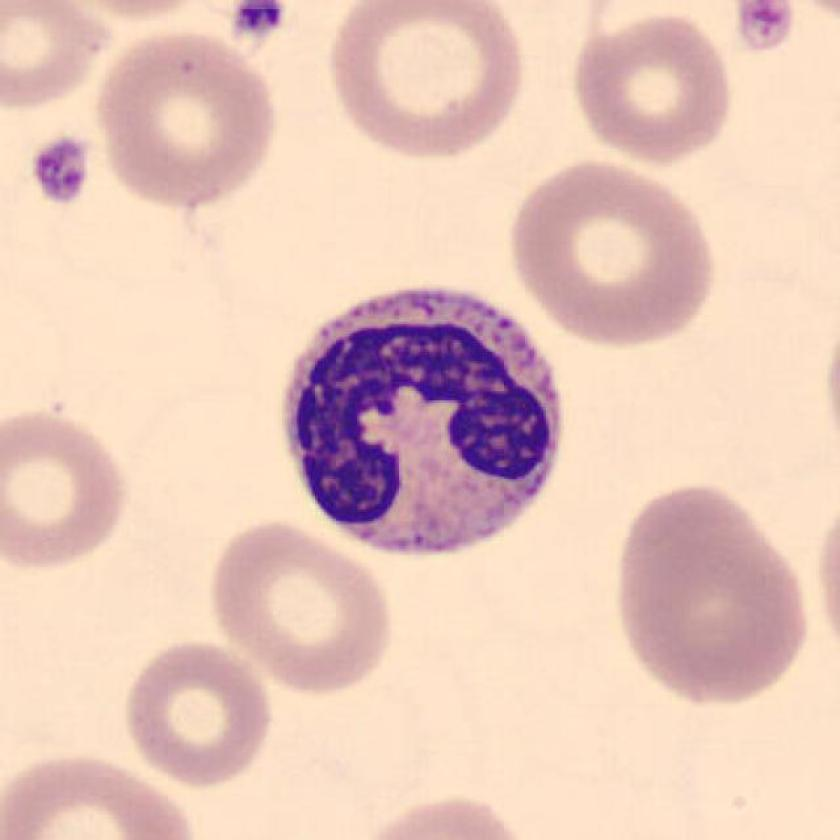neutrophil: (284, 289, 566, 553)
